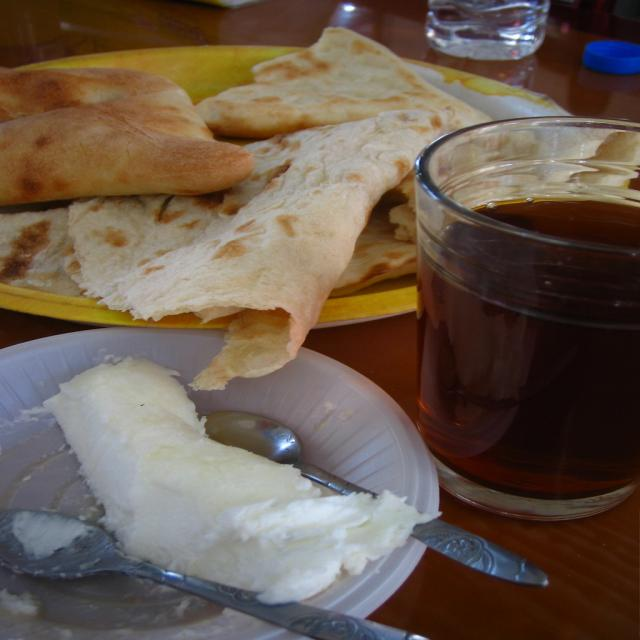Tea: (418, 197, 640, 503)
